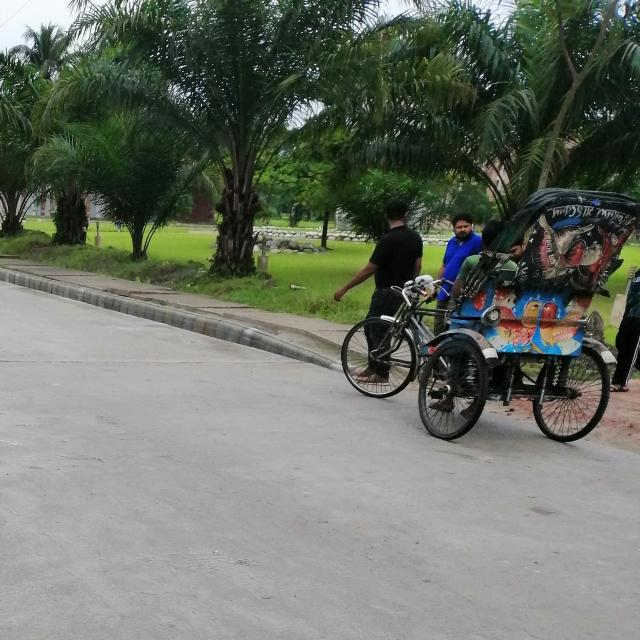Rickshaw: (338, 191, 640, 447)
